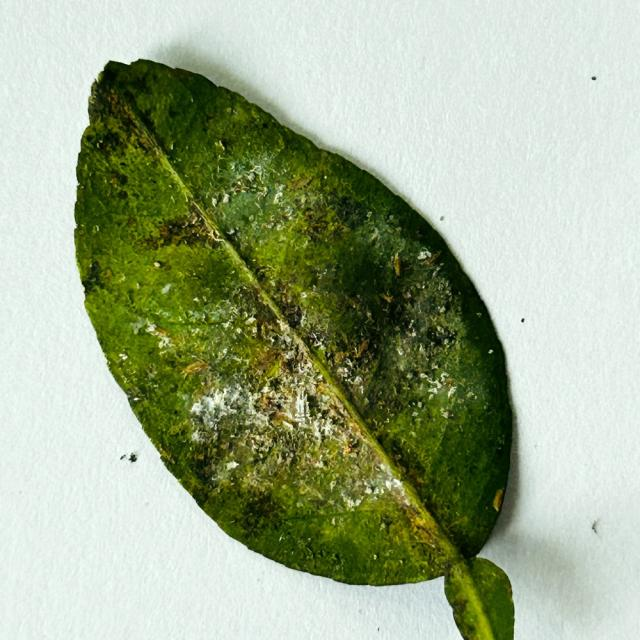Bacterial_Blight: (234, 379, 337, 487), (96, 83, 167, 160), (293, 327, 356, 410), (154, 291, 246, 344), (144, 136, 200, 209), (139, 213, 224, 252), (399, 347, 458, 402), (184, 198, 237, 257), (328, 328, 378, 389), (372, 283, 419, 335), (220, 162, 271, 203), (271, 332, 312, 377), (326, 400, 368, 443), (158, 87, 197, 132), (292, 533, 345, 566), (93, 128, 133, 165), (260, 393, 298, 429), (301, 203, 338, 238), (275, 289, 306, 330), (246, 492, 279, 520), (253, 346, 284, 374), (87, 80, 107, 121), (411, 521, 441, 548), (94, 64, 121, 91), (425, 323, 454, 347), (302, 391, 324, 419), (84, 259, 103, 288), (105, 169, 129, 190), (182, 360, 210, 378), (287, 176, 312, 191), (150, 256, 173, 272), (421, 250, 442, 266), (354, 338, 370, 358), (130, 317, 148, 334), (492, 488, 505, 511), (253, 265, 270, 281), (451, 599, 466, 617), (159, 445, 174, 463), (157, 225, 173, 241), (345, 294, 362, 309), (439, 559, 455, 574), (125, 214, 139, 231), (168, 422, 185, 436), (120, 451, 139, 463), (151, 326, 170, 338), (106, 91, 121, 106), (126, 289, 138, 307), (217, 137, 231, 152), (393, 253, 402, 276), (380, 519, 394, 533), (334, 351, 346, 364), (591, 519, 600, 536), (220, 480, 235, 490), (102, 268, 114, 280), (147, 364, 158, 377), (369, 230, 380, 243), (380, 293, 394, 303), (303, 544, 314, 556), (118, 189, 129, 200), (194, 451, 205, 461), (261, 395, 271, 406), (506, 584, 513, 596), (498, 435, 505, 445), (366, 310, 373, 320), (261, 122, 269, 130), (404, 291, 412, 299), (366, 211, 373, 219), (133, 395, 141, 402), (226, 107, 233, 114), (81, 285, 86, 294)
Lemon: (73, 60, 517, 639)
